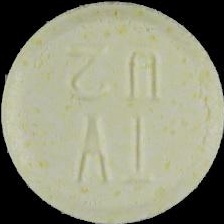55154-8299: (0, 0, 224, 224)
